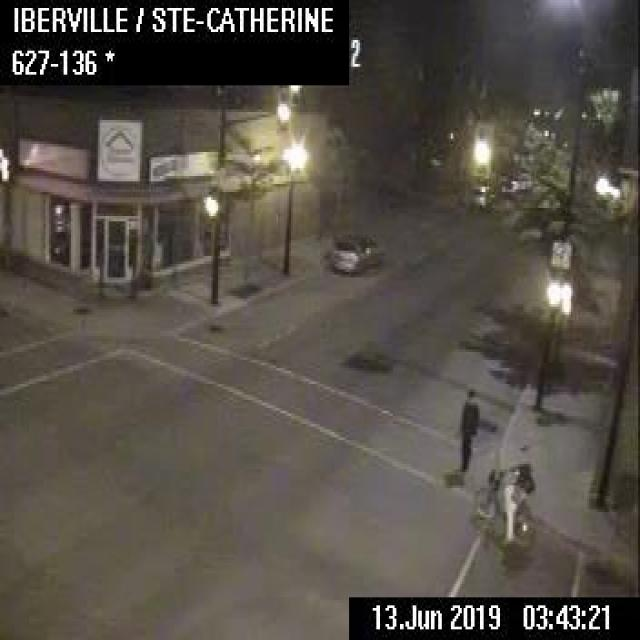cyclist: (468, 441, 536, 554)
pedestrian: (457, 384, 480, 475)
vehicle: (326, 239, 361, 277), (351, 232, 377, 266), (466, 187, 489, 213)
